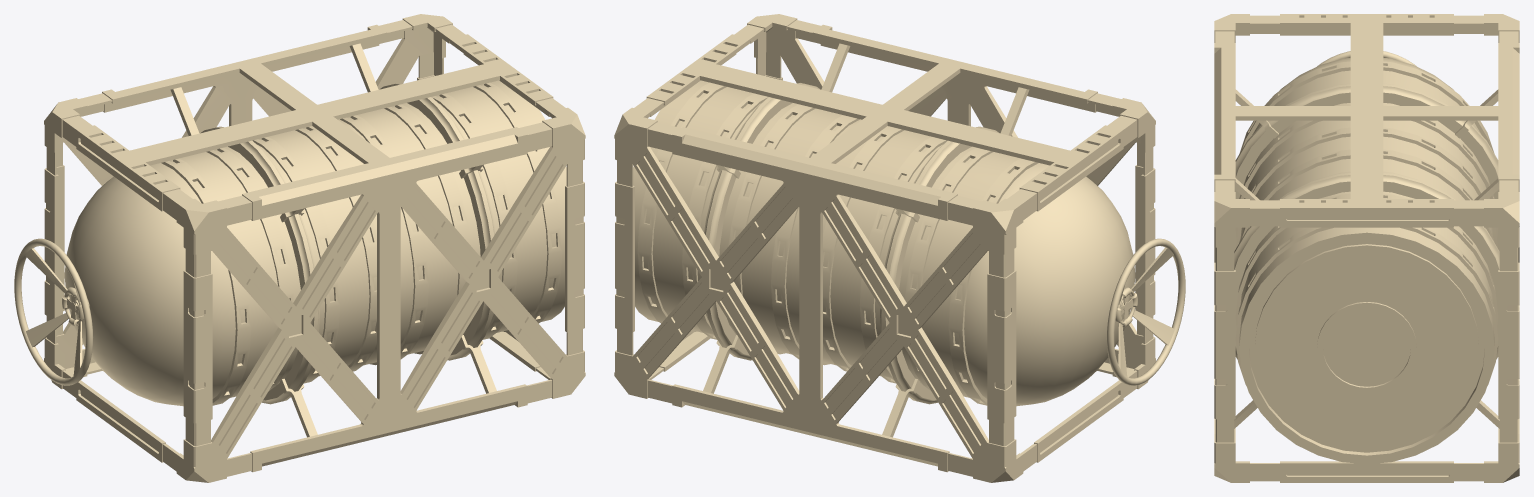
Rendered from cargo_box10.fbx.
3 views of the same model, side by side, from view 1: azimuth 30°, elevation 25°; view 2: azimuth 150°, elevation 25°; view 3: azimuth 270°, elevation 25° (orthographic).
Visible parts, largest first — view 1: cage2.002, Cube.012, Cube.012_Piece, Torus.001_Piece.001, Cube.012_Piece.002, Cube.012_Piece.001, Cube.012_Piece.001_Piece, Cube.012_Piece.001_Piece.001; view 2: cage2.002, Cube.012, Cube.012_Piece, Torus.001_Piece.001, Cube.012_Piece.002, Cube.012_Piece.001, Cube.012_Piece.001_Piece, Cube.012_Piece.001_Piece.001; view 3: Cube.012, cage2.002, Cube.012_Piece, Cube.012_Piece.002, Cube.012_Piece.001, Cube.012_Piece.001_Piece.001, Cube.012_Piece.001_Piece, Torus.001_Piece.001.
Boxes of the visible parts, x1,y1,x2,y2 form: cage2.002: (44, 14, 585, 482); Cube.012: (64, 80, 566, 406); Cube.012_Piece: (161, 82, 562, 405); Torus.001_Piece.001: (14, 238, 93, 385); Cube.012_Piece.002: (380, 83, 498, 360); Cube.012_Piece.001: (200, 126, 319, 404); Cube.012_Piece.001_Piece: (170, 87, 317, 437); Cube.012_Piece.001_Piece.001: (349, 43, 496, 393); cage2.002: (614, 14, 1155, 482); Cube.012: (633, 80, 1135, 406); Cube.012_Piece: (637, 82, 1038, 405); Torus.001_Piece.001: (1106, 238, 1185, 385); Cube.012_Piece.002: (701, 83, 819, 360); Cube.012_Piece.001: (880, 126, 999, 404); Cube.012_Piece.001_Piece: (882, 87, 1029, 437); Cube.012_Piece.001_Piece.001: (703, 43, 850, 393); Cube.012: (1239, 57, 1494, 464); cage2.002: (1214, 14, 1519, 482); Cube.012_Piece: (1235, 61, 1498, 385); Cube.012_Piece.002: (1234, 173, 1499, 359); Cube.012_Piece.001: (1234, 84, 1499, 250); Cube.012_Piece.001_Piece.001: (1234, 178, 1499, 428); Cube.012_Piece.001_Piece: (1235, 89, 1498, 138); Torus.001_Piece.001: (1317, 51, 1416, 66).
Bounding box in the file's own units: 91.81 × 50.91 × 51.31.
